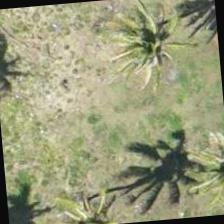Kelapa_Sawit: (114, 0, 213, 95), (41, 171, 137, 223), (177, 117, 223, 213)
